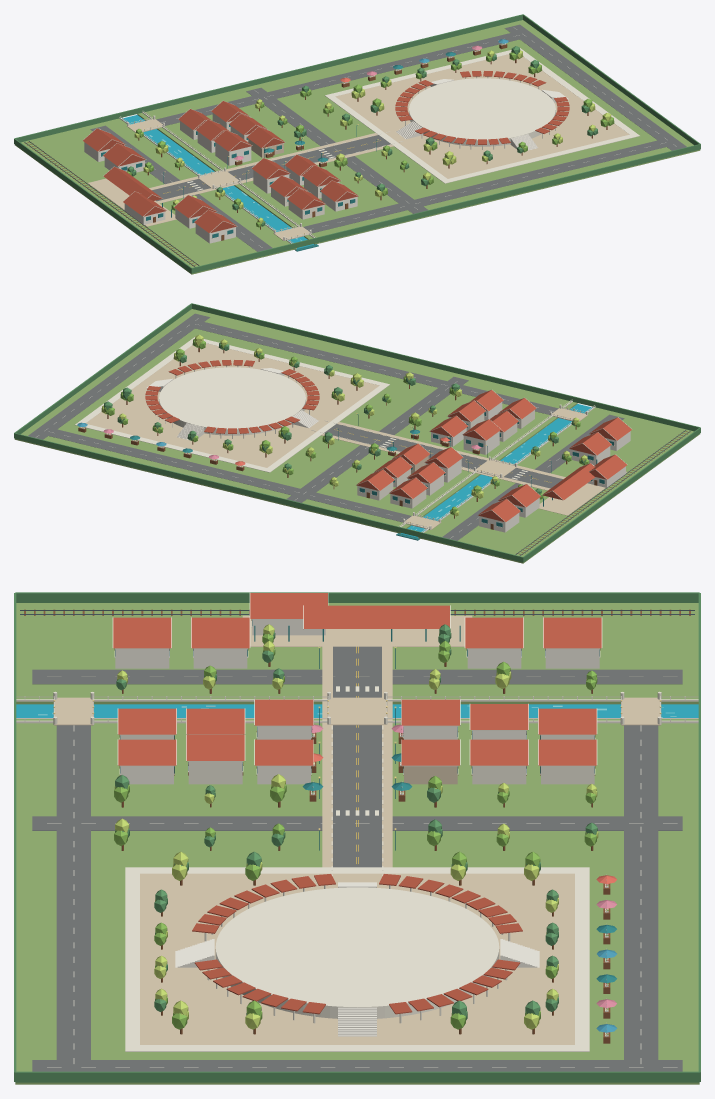
The model's file is HNP_Town_v003.fbx.
The picture shows the model from 3 angles, top to bottom: view 1: azimuth 30°, elevation 25°; view 2: azimuth 150°, elevation 25°; view 3: azimuth 270°, elevation 25°; orthographic projection. The views are drawn at different scales.
Visible parts, largest first — view 1: COLL_Town, Town_HNPW_Asphalt, Town_HNPW_Ivory, Town_HNPW_Path, Town_HNPW_Roof, Town_HNPW_LeafDark, Town_HNPW_Water, Town_HNPW_Leaf, Town_HNPW_Plaster, Town_HNPW_LeafLight, Town_HNPW_White, Town_HNPW_Teal (+2 smaller); view 2: COLL_Town, Town_HNPW_Asphalt, Town_HNPW_Ivory, Town_HNPW_Path, Town_HNPW_Roof, Town_HNPW_LeafDark, Town_HNPW_Water, Town_HNPW_Leaf, Town_HNPW_LeafLight, Town_HNPW_White, Town_HNPW_Plaster, Town_HNPW_Teal (+2 smaller); view 3: COLL_Town, Town_HNPW_Asphalt, Town_HNPW_Path, Town_HNPW_Roof, Town_HNPW_Ivory, Town_HNPW_LeafDark, Town_HNPW_Plaster, Town_HNPW_Leaf, Town_HNPW_LeafLight, Town_HNPW_White, Town_HNPW_Water, Town_HNPW_Teal (+2 smaller).
Boxes of the visible parts, left/top/right/bottom form: COLL_Town: left=14, top=14, right=700, bottom=274; Town_HNPW_Asphalt: left=90, top=24, right=686, bottom=251; Town_HNPW_Ivory: left=83, top=39, right=639, bottom=248; Town_HNPW_Path: left=88, top=54, right=629, bottom=226; Town_HNPW_Roof: left=83, top=71, right=569, bottom=232; Town_HNPW_LeafDark: left=14, top=14, right=700, bottom=272; Town_HNPW_Water: left=122, top=115, right=316, bottom=248; Town_HNPW_Leaf: left=126, top=43, right=614, bottom=227; Town_HNPW_Plaster: left=84, top=80, right=555, bottom=242; Town_HNPW_LeafLight: left=134, top=50, right=611, bottom=223; Town_HNPW_White: left=99, top=28, right=676, bottom=247; Town_HNPW_Teal: left=101, top=52, right=455, bottom=251; COLL_Town: left=14, top=303, right=700, bottom=563; Town_HNPW_Asphalt: left=28, top=313, right=624, bottom=540; Town_HNPW_Ivory: left=75, top=337, right=631, bottom=532; Town_HNPW_Path: left=86, top=343, right=626, bottom=515; Town_HNPW_Roof: left=145, top=360, right=631, bottom=521; Town_HNPW_LeafDark: left=14, top=303, right=700, bottom=561; Town_HNPW_Water: left=398, top=404, right=592, bottom=537; Town_HNPW_Leaf: left=80, top=339, right=589, bottom=515; Town_HNPW_LeafLight: left=101, top=334, right=587, bottom=516; Town_HNPW_White: left=36, top=318, right=614, bottom=538; Town_HNPW_Plaster: left=159, top=369, right=588, bottom=532; Town_HNPW_Teal: left=130, top=412, right=613, bottom=540; COLL_Town: left=14, top=592, right=700, bottom=1084; Town_HNPW_Asphalt: left=32, top=646, right=682, bottom=1071; Town_HNPW_Path: left=140, top=615, right=574, bottom=1044; Town_HNPW_Roof: left=113, top=593, right=601, bottom=1014; Town_HNPW_Ivory: left=16, top=593, right=698, bottom=1051; Town_HNPW_LeafDark: left=14, top=592, right=700, bottom=1082; Town_HNPW_Plaster: left=115, top=619, right=599, bottom=1035; Town_HNPW_Leaf: left=114, top=634, right=608, bottom=1035; Town_HNPW_LeafLight: left=114, top=624, right=598, bottom=1029; Town_HNPW_White: left=16, top=621, right=698, bottom=1067; Town_HNPW_Water: left=16, top=704, right=698, bottom=717; Town_HNPW_Teal: left=115, top=620, right=616, bottom=983.
Bounding box in the file's own units: 23250 × 1161 × 14050.
